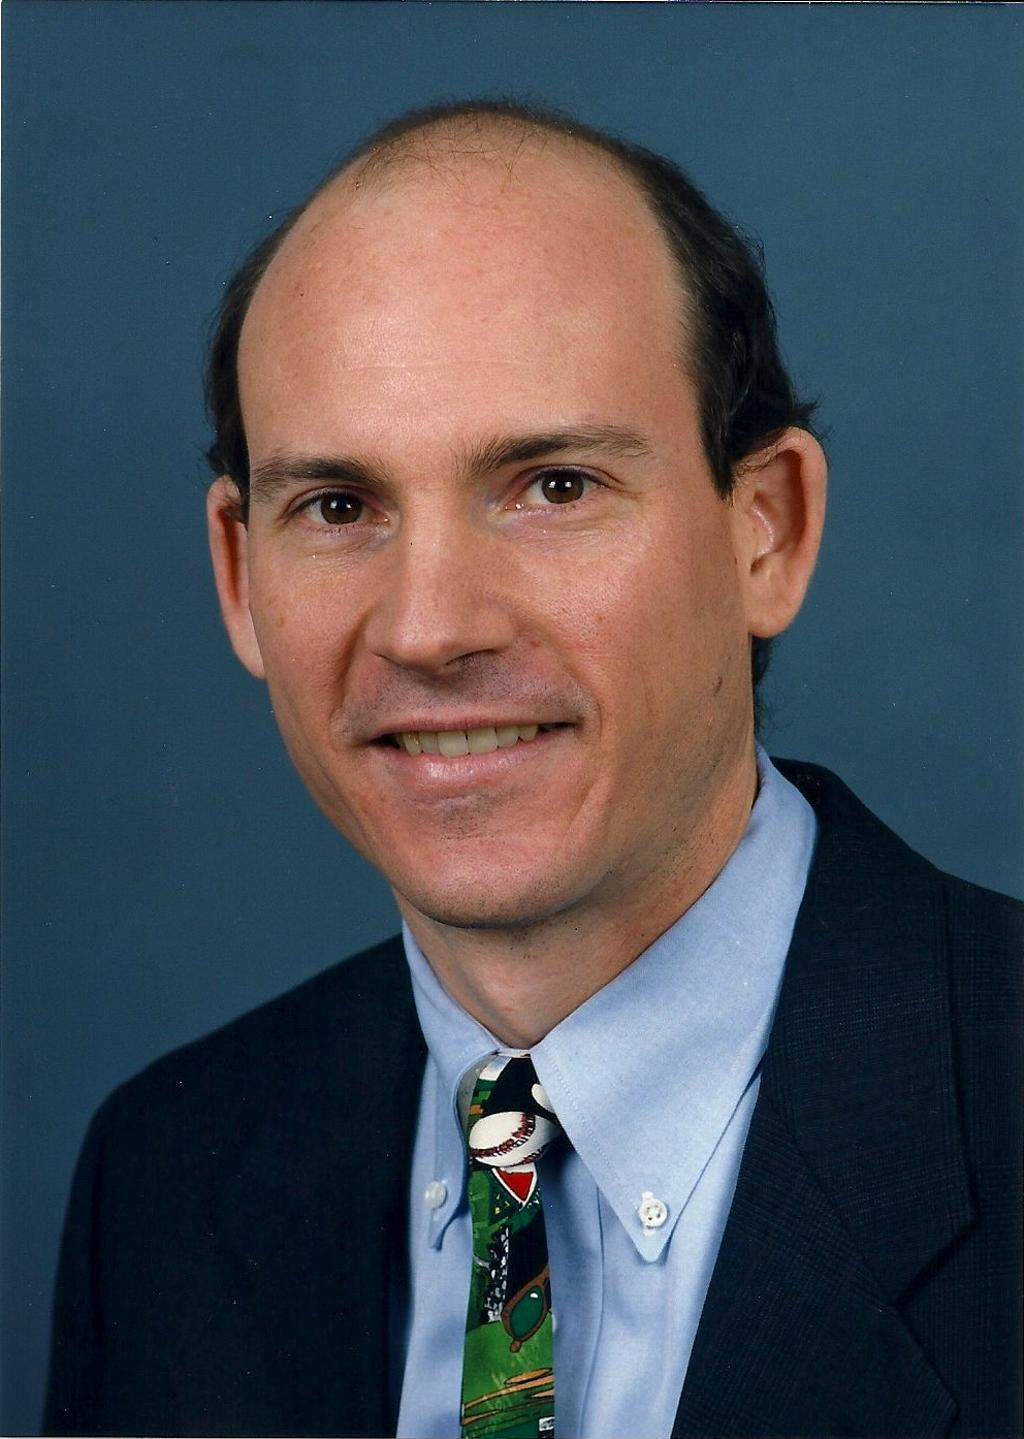face: (236, 236, 737, 925)
